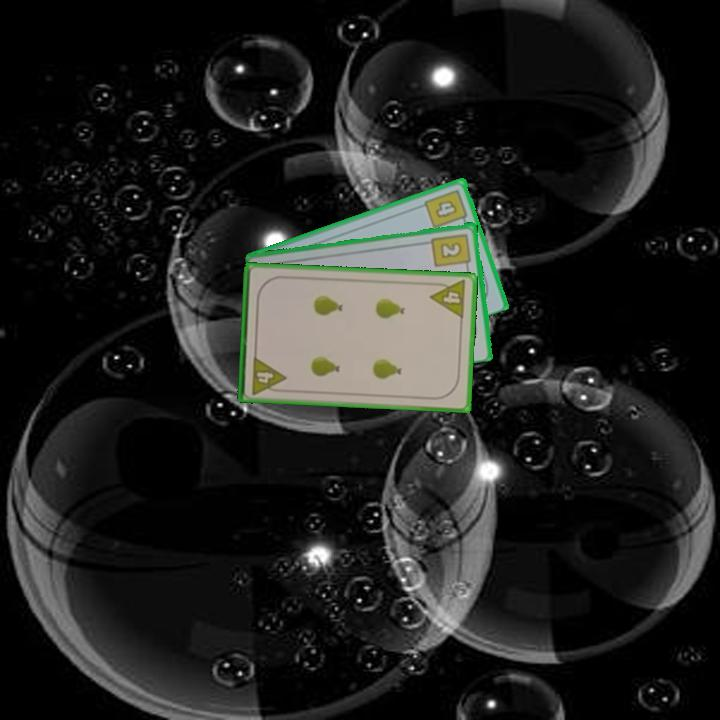2b: (429, 230, 474, 272)
4b: (421, 185, 471, 231)
4p: (427, 277, 469, 321), (248, 353, 288, 397)
